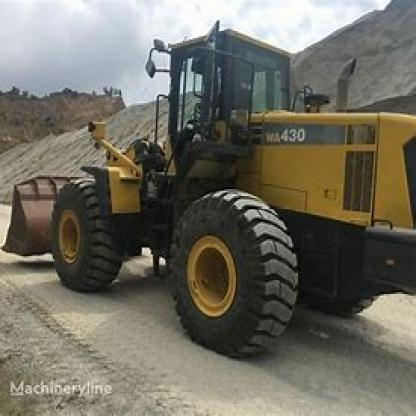bull_dozer/loader/grader: (0, 20, 414, 362)
